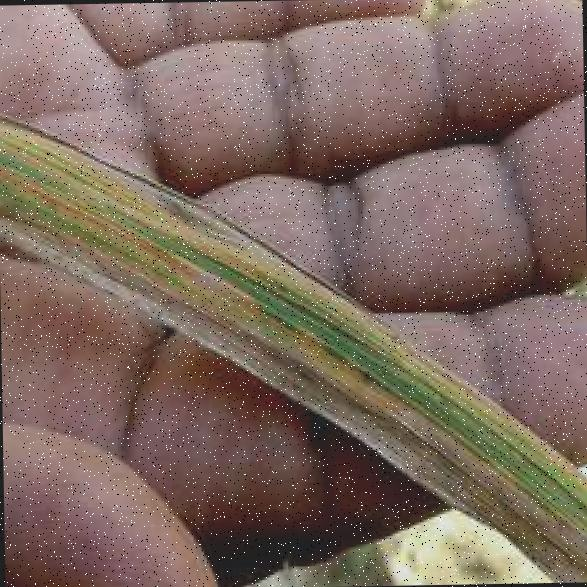Bacteria_Leaf_Blight: (2, 93, 536, 511)
